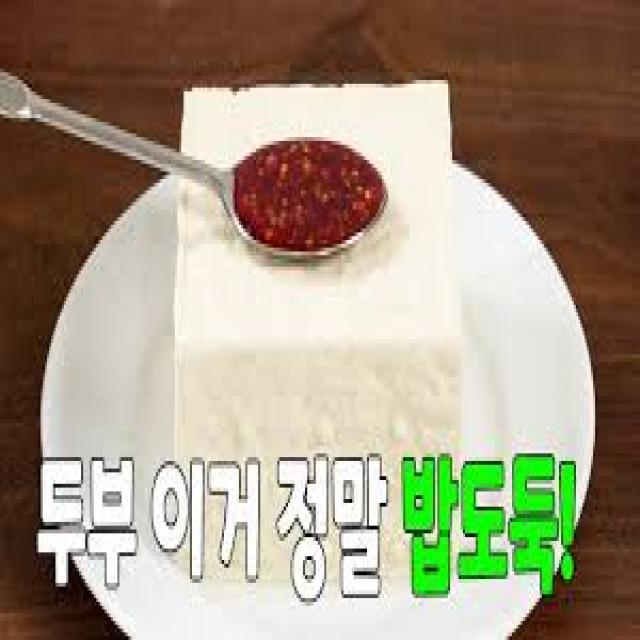tofu: (165, 74, 474, 626)
